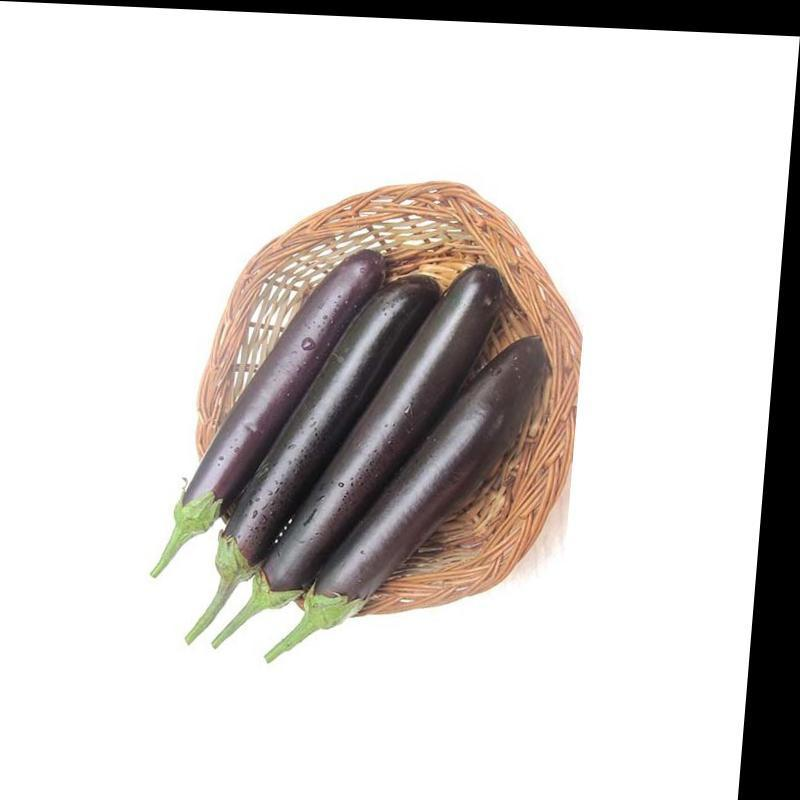eggplant: (194, 295, 489, 642)
